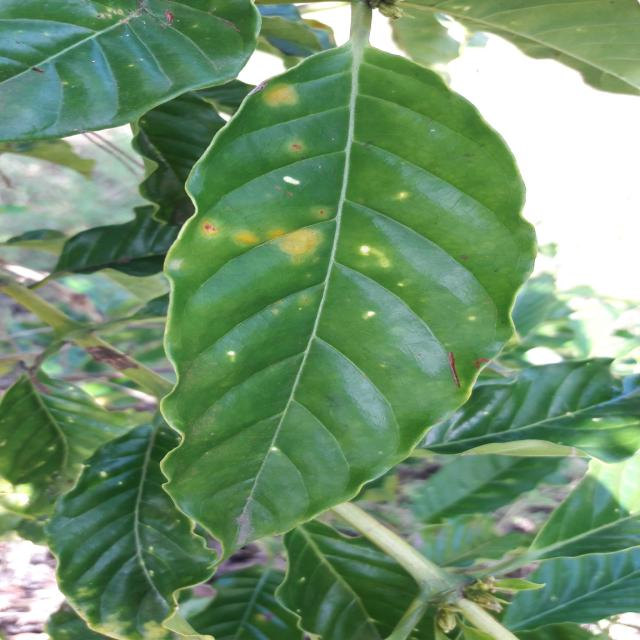Enfermedad-Roya: (156, 44, 540, 557)
